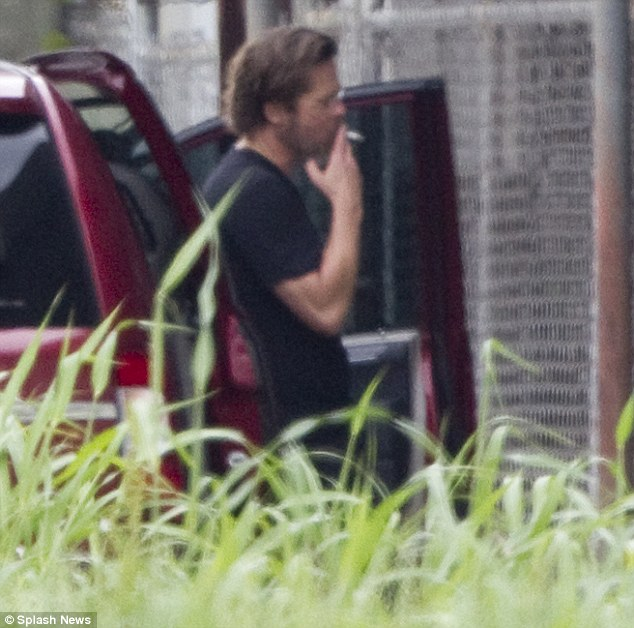cigarette: (339, 129, 373, 146)
